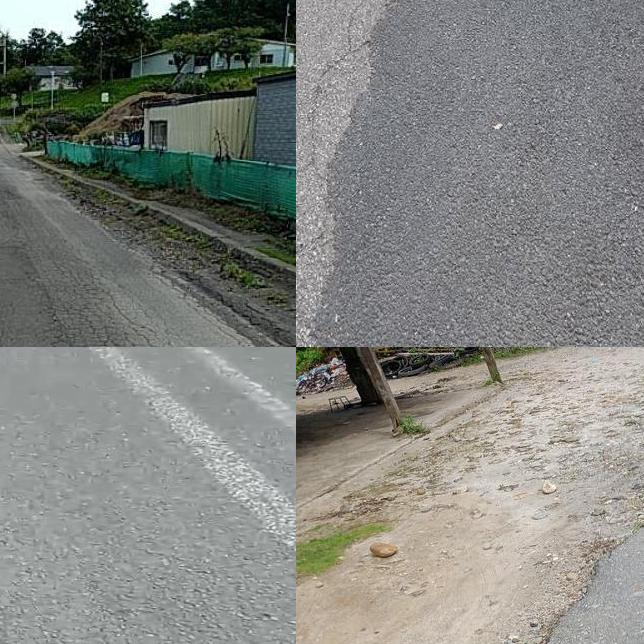Pinggir: (492, 375, 644, 644)
Retak Buaya: (27, 271, 189, 347)
Sambungan: (315, 0, 644, 347)
